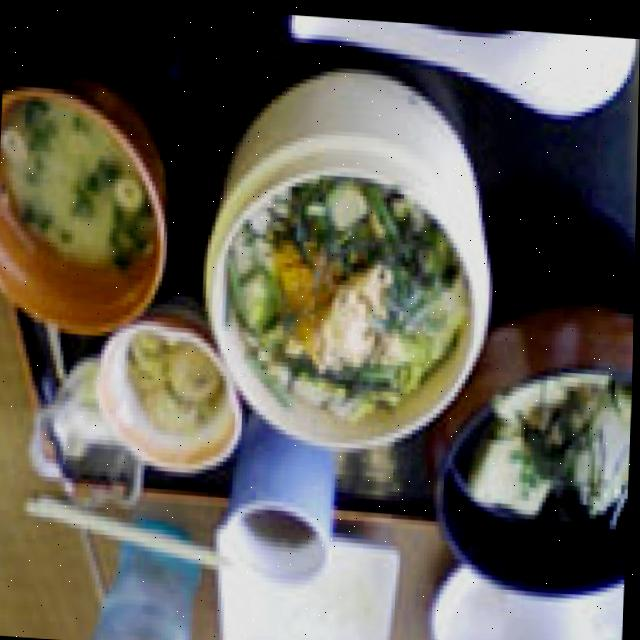刺身生食: (215, 147, 505, 457)
汤锅炖物: (0, 85, 177, 352)
